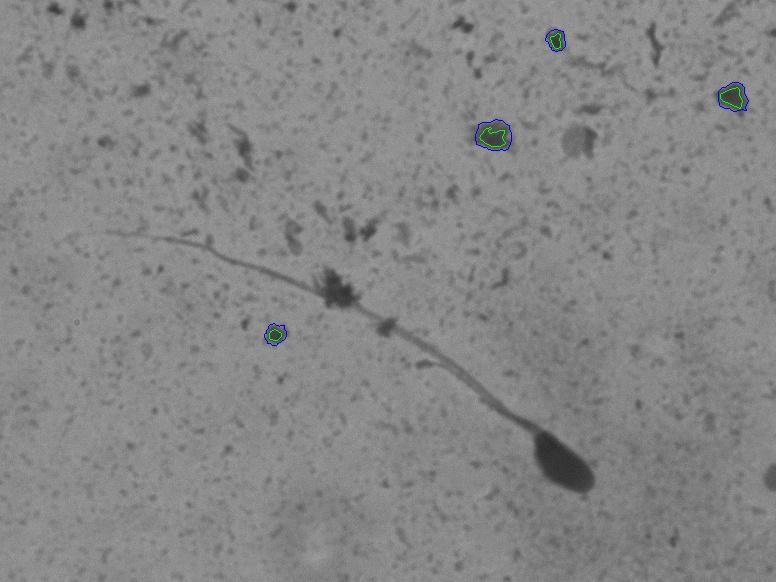Abnormal: (91, 201, 643, 526)
